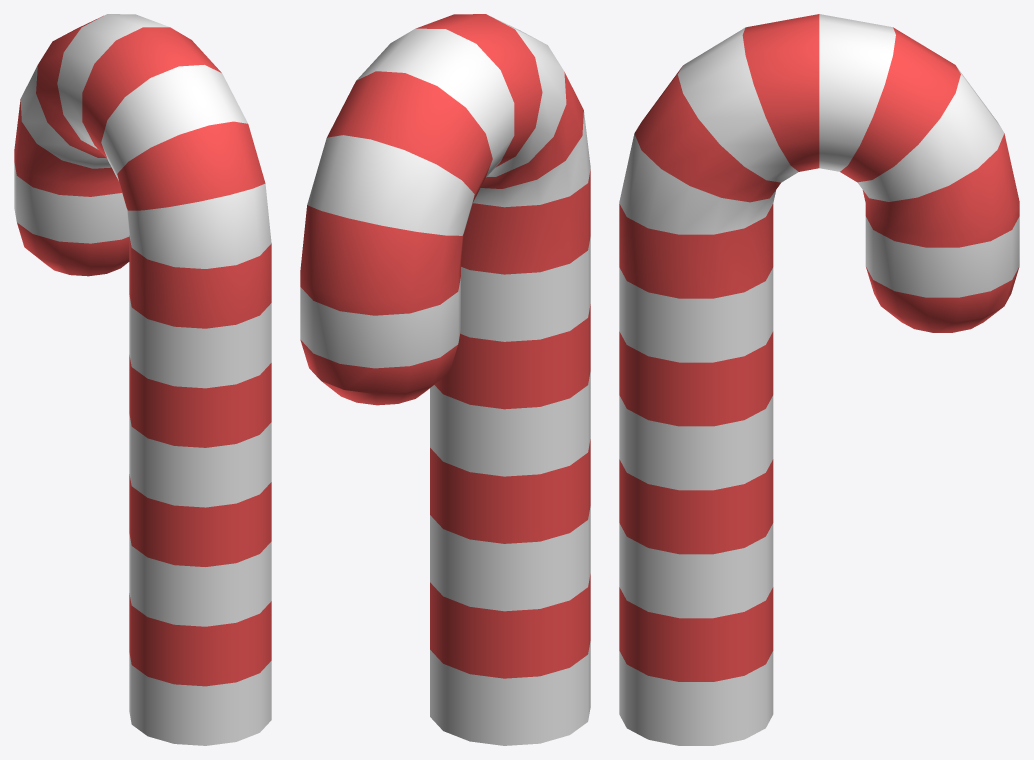
The model's file is Candy_Caine.fbx.
The picture shows the model from 3 angles, left to right: view 1: azimuth 30°, elevation 25°; view 2: azimuth 150°, elevation 25°; view 3: azimuth 270°, elevation 25°; orthographic projection. The views are drawn at different scales.
Visible parts, largest first — view 1: Candy_Caine; view 2: Candy_Caine; view 3: Candy_Caine.
Boxes of the visible parts, x1,y1,x2,y2 form: Candy_Caine: (14,14,271,745); Candy_Caine: (300,14,590,745); Candy_Caine: (619,14,1019,745).
Size of the model in its own units: 61.71 by 314 by 164.
